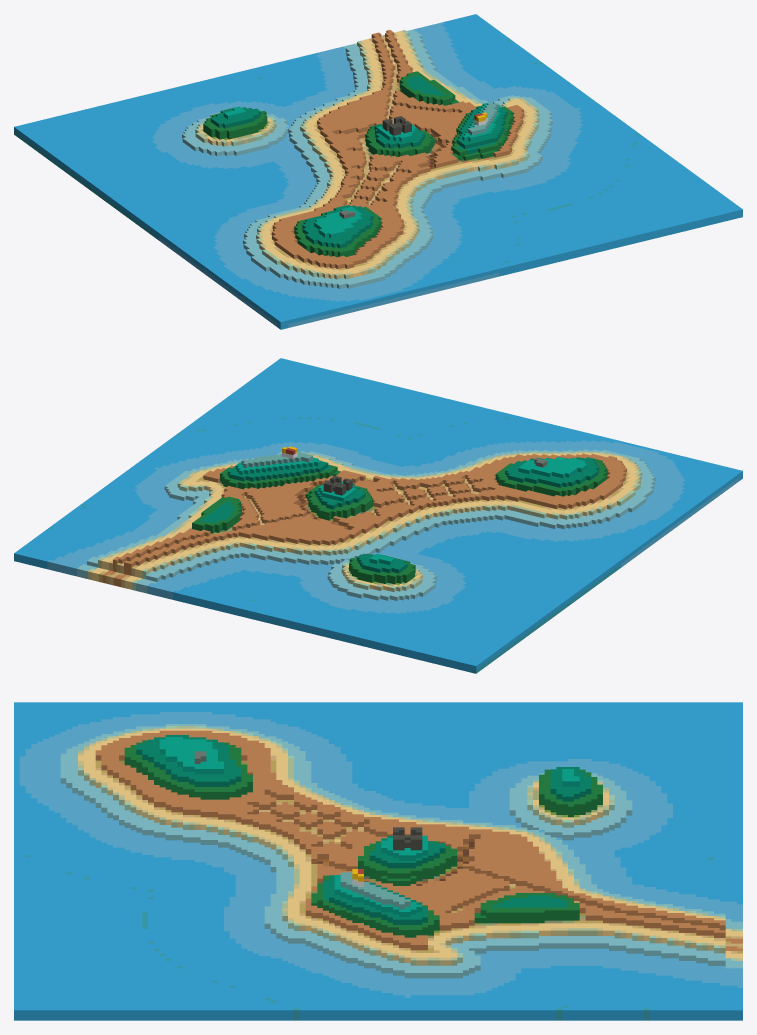
The model's file is 210515guia-6.obj.
3 views of the same model, one above another, from view 1: azimuth 30°, elevation 25°; view 2: azimuth 150°, elevation 25°; view 3: azimuth 270°, elevation 25° (orthographic). The views are drawn at different scales.
Size of the model in its own units: 12.5 by 1.1 by 12.5.
1 material, 1 textured.
